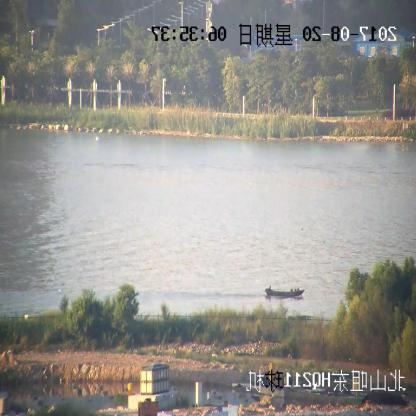Fishing Boat: (264, 286, 304, 296)
